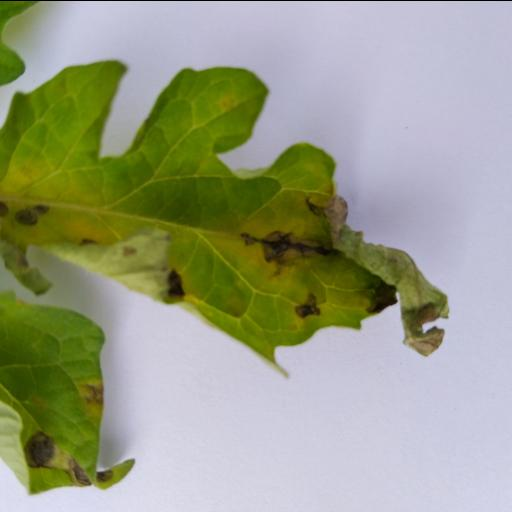disease_tomato: (0, 58, 450, 374)
